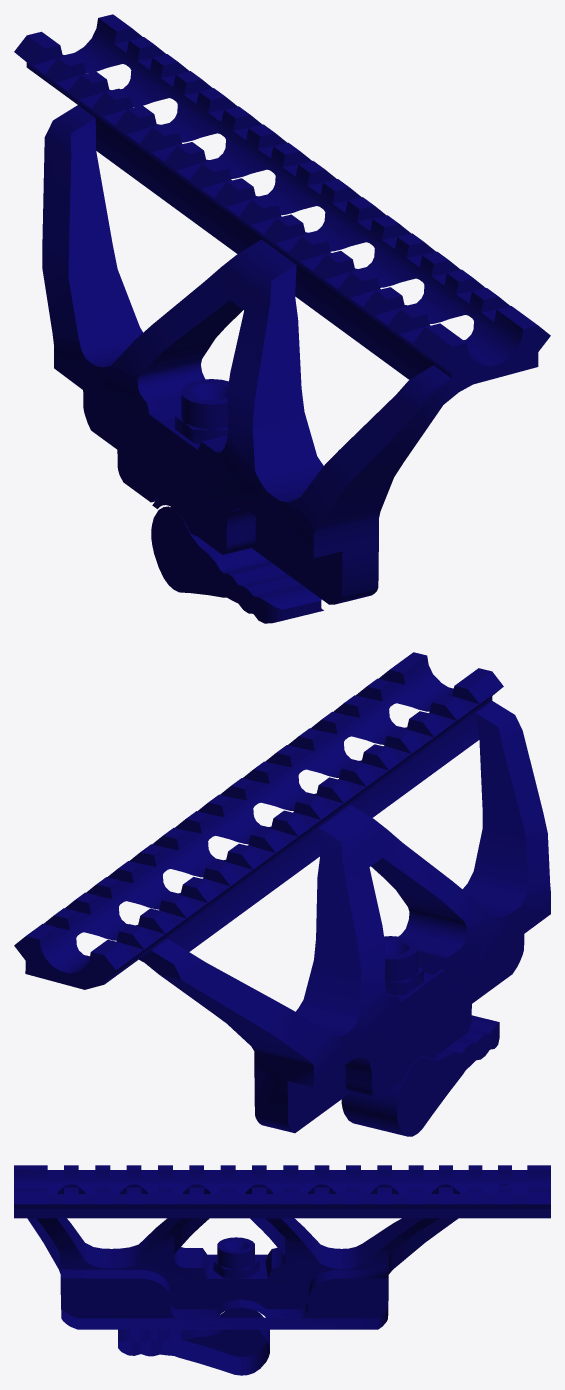
File: Bracket_Picatinny_LOD0.FBX
3 renders of one model, top to bottom at view 1: azimuth 30°, elevation 25°; view 2: azimuth 150°, elevation 25°; view 3: azimuth 270°, elevation 25°, orthographic. The views are drawn at different scales.
Parts seen in each view (by area): view 1: LP_Bracket_Picatinny_LOD0; view 2: LP_Bracket_Picatinny_LOD0; view 3: LP_Bracket_Picatinny_LOD0.
Boxes of the visible parts, x1,y1,x2,y2 form: LP_Bracket_Picatinny_LOD0: [14, 14, 550, 623]; LP_Bracket_Picatinny_LOD0: [14, 652, 550, 1136]; LP_Bracket_Picatinny_LOD0: [14, 1165, 550, 1375].
Size of the model in its own units: 4.66 by 7.8 by 17.11.
